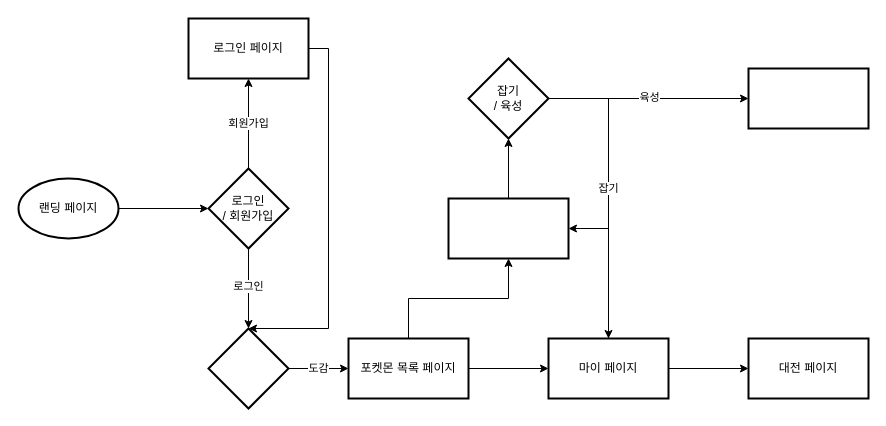
Some shapes in this 886 by 426 pixel diagram are drawn without their labels. The shapes that lost their labels are listed below. From the top down, each one's centre as x and y in pixels, then its label:
At pixel 808 98: "육성 페이지".
At pixel 508 228: "포켓몬 상세 페이지".
At pixel 248 368: "도감 / 게임".
